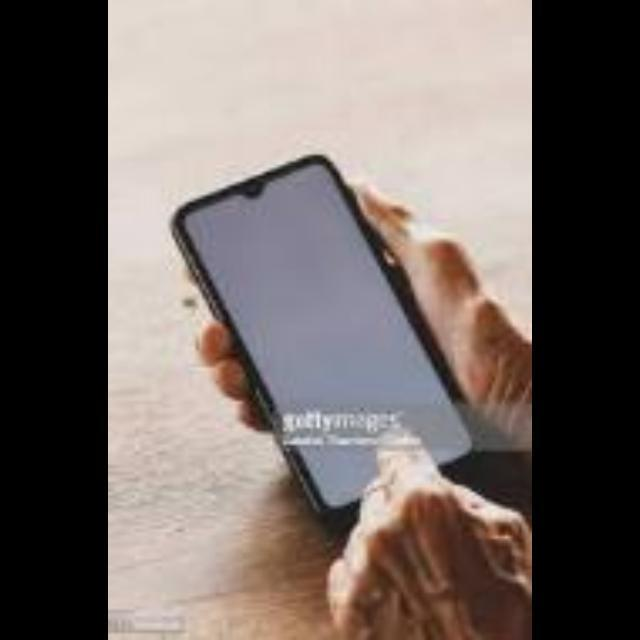PhoneUse: (177, 168, 503, 540)
